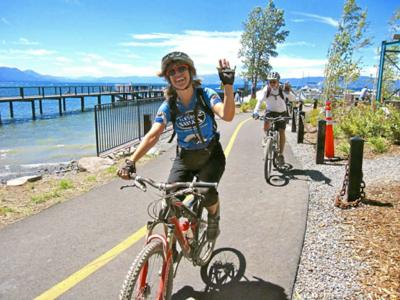With Helmet: (159, 45, 197, 97), (264, 67, 284, 90)
